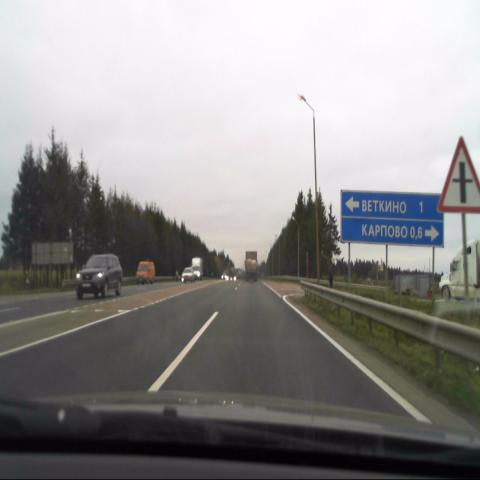2_3: (439, 134, 480, 214)
